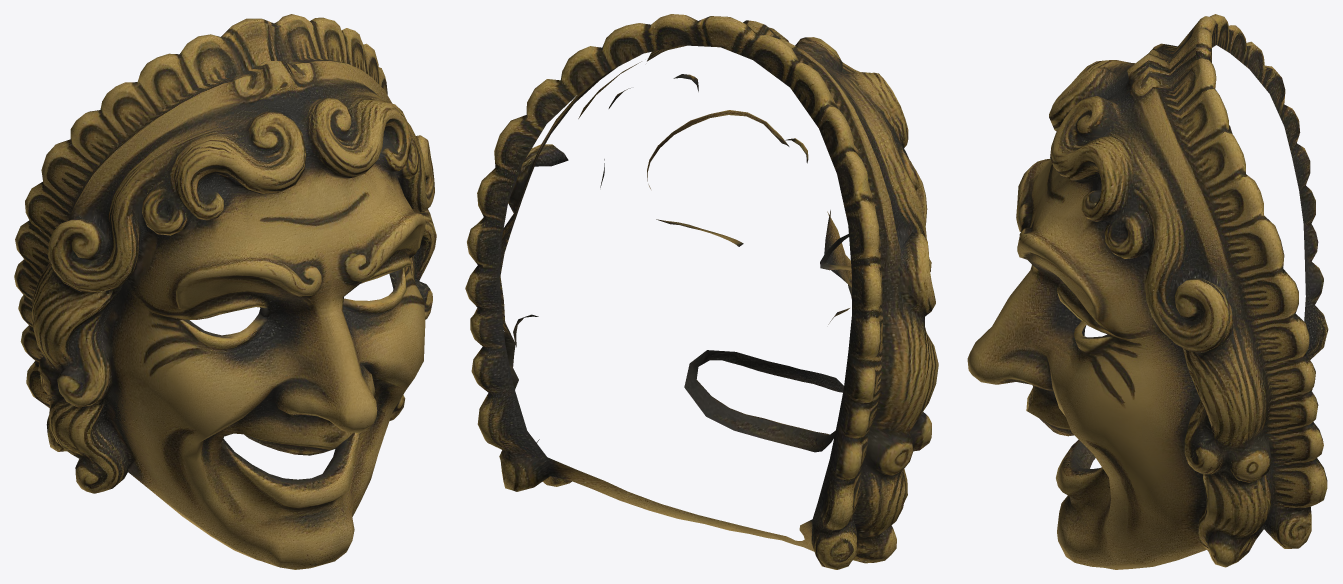
File: 019e766d-cae1-7f8b-a8fe-920b22793227.glb
The picture shows the model from 3 angles, left to right: view 1: azimuth 30°, elevation 25°; view 2: azimuth 150°, elevation 25°; view 3: azimuth 270°, elevation 25°; orthographic projection. The views are drawn at different scales.
Visible parts, largest first — view 1: tripo_node_7713cc73-159c-451a-bf68-2e198ea2df07; view 2: tripo_node_7713cc73-159c-451a-bf68-2e198ea2df07; view 3: tripo_node_7713cc73-159c-451a-bf68-2e198ea2df07.
Boxes of the visible parts, <box> form: tripo_node_7713cc73-159c-451a-bf68-2e198ea2df07: <box>14,14,436,569</box>; tripo_node_7713cc73-159c-451a-bf68-2e198ea2df07: <box>465,14,938,569</box>; tripo_node_7713cc73-159c-451a-bf68-2e198ea2df07: <box>967,14,1328,569</box>.
Bounding box in the file's own units: 0.8027 × 0.998 × 0.623.
Materials: 1 (1 with a texture image).
